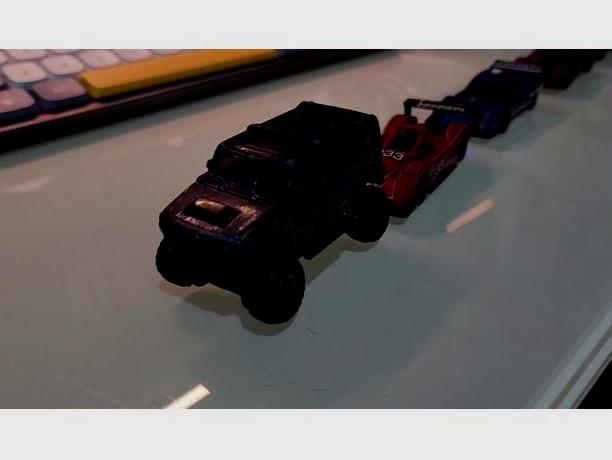toy-car: (154, 100, 391, 326), (382, 96, 472, 221), (450, 59, 545, 141)
